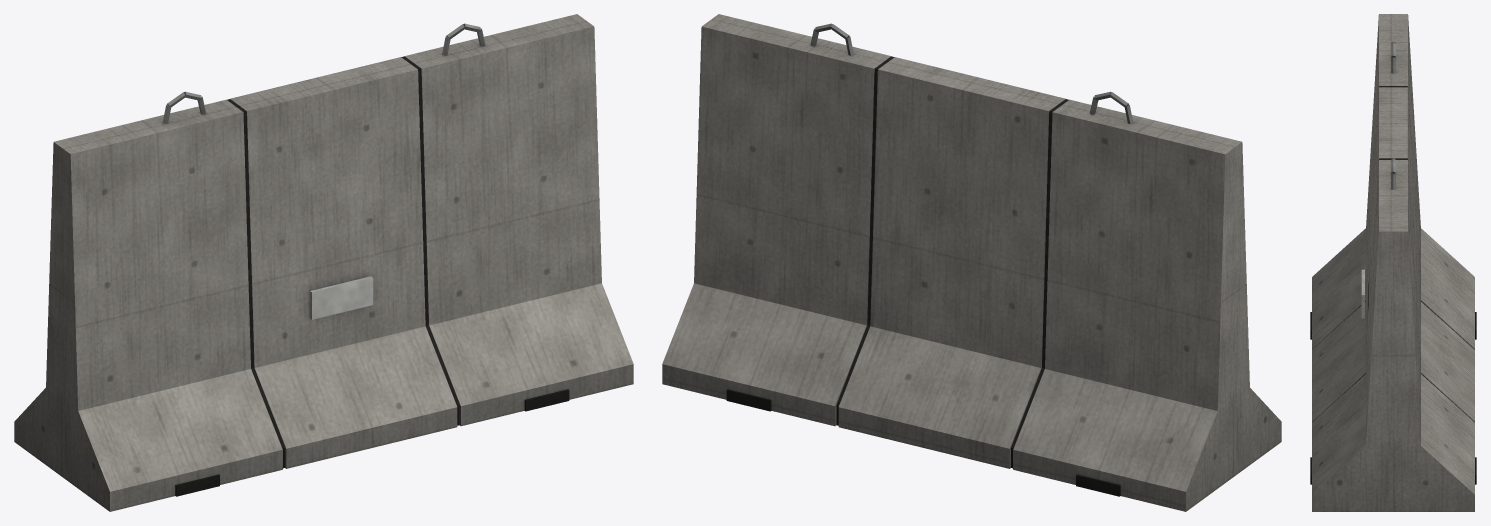
The model's file is concrete_wall.glb.
3 views of the same model, side by side, from view 1: azimuth 30°, elevation 25°; view 2: azimuth 150°, elevation 25°; view 3: azimuth 270°, elevation 25° (orthographic). The views are drawn at different scales.
Parts seen in each view (by area): view 1: Building; view 2: Building; view 3: Building.
Boxes of the visible parts, x1=… form: Building: x1=14, y1=14, x2=633, y2=511; Building: x1=662, y1=14, x2=1281, y2=511; Building: x1=1310, y1=14, x2=1476, y2=511.
Bounding box in the file's own units: 6 × 3.89 × 1.94.
2 materials, 1 textured.
